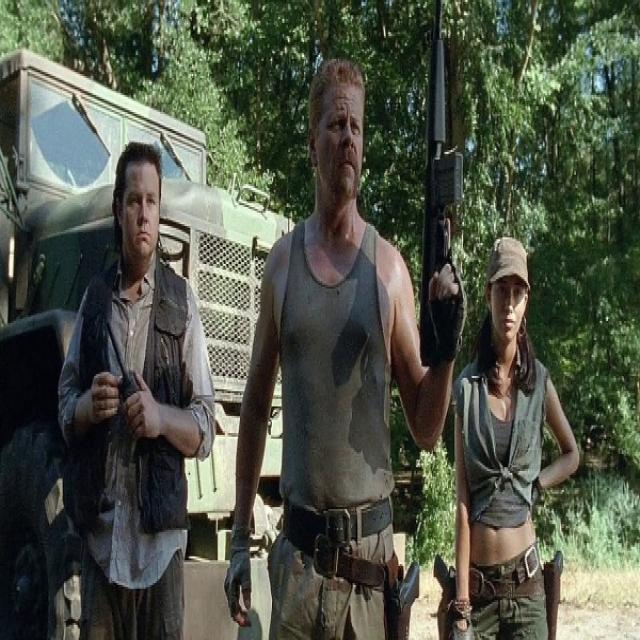rifle: (418, 1, 466, 379)
